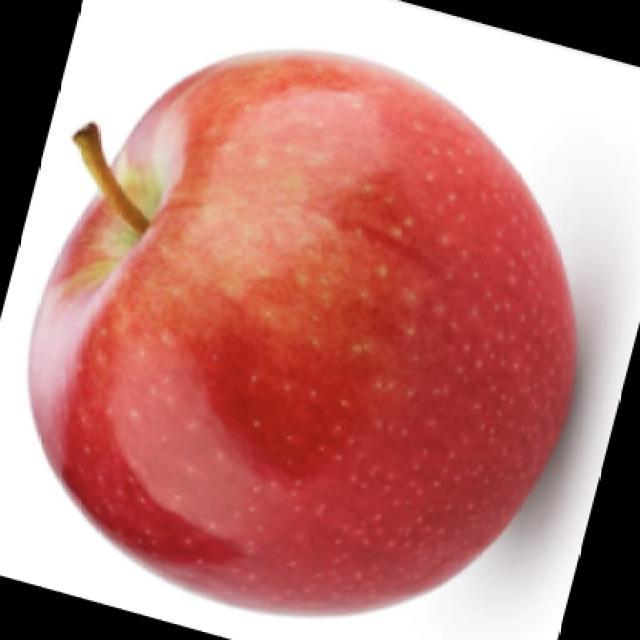Fresh Apple: (38, 64, 570, 588)
